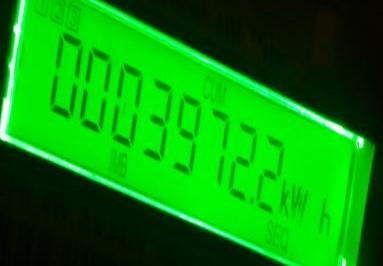.: (278, 178, 337, 242)
0: (246, 195, 257, 208)
1: (110, 58, 144, 149), (47, 34, 81, 123), (81, 44, 112, 136)
2: (202, 105, 231, 187)
3: (228, 120, 260, 202), (254, 135, 286, 217)
4: (139, 80, 174, 163)
:: (171, 93, 204, 177)
